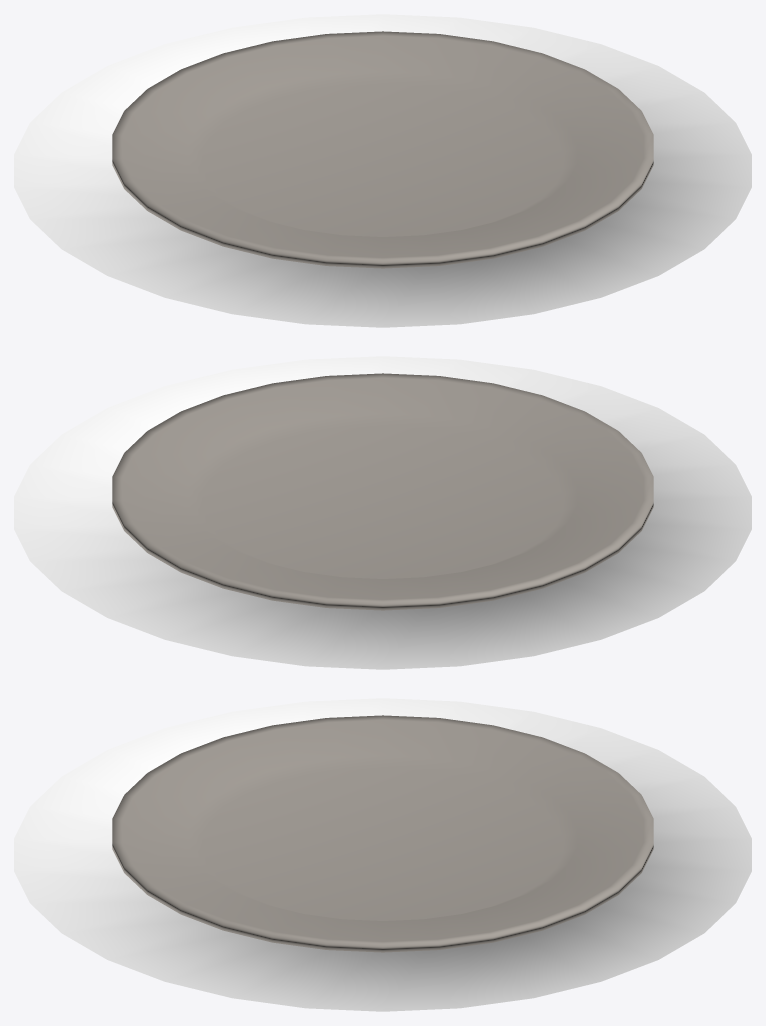
Rendered from pi_dish01_white.gltf.
3 views of the same model, one above another, from view 1: azimuth 30°, elevation 25°; view 2: azimuth 150°, elevation 25°; view 3: azimuth 270°, elevation 25° (orthographic).
Parts seen in each view (by area): view 1: um_pi_dish01_white_model_pi_dish01_white_modelShape:pi_dish0, um_pi_dish01_white_model_pi_dish01_white_modelShape:mat_text; view 2: um_pi_dish01_white_model_pi_dish01_white_modelShape:pi_dish0, um_pi_dish01_white_model_pi_dish01_white_modelShape:mat_text; view 3: um_pi_dish01_white_model_pi_dish01_white_modelShape:pi_dish0, um_pi_dish01_white_model_pi_dish01_white_modelShape:mat_text.
Boxes of the visible parts, x1,y1,x2,y2 form: um_pi_dish01_white_model_pi_dish01_white_modelShape:pi_dish0: (112, 31, 653, 268); um_pi_dish01_white_model_pi_dish01_white_modelShape:mat_text: (14, 14, 751, 327); um_pi_dish01_white_model_pi_dish01_white_modelShape:pi_dish0: (112, 373, 653, 610); um_pi_dish01_white_model_pi_dish01_white_modelShape:mat_text: (14, 356, 751, 669); um_pi_dish01_white_model_pi_dish01_white_modelShape:pi_dish0: (112, 715, 653, 952); um_pi_dish01_white_model_pi_dish01_white_modelShape:mat_text: (14, 698, 751, 1011).
Size of the model in its own units: 0.4092 by 0.017 by 0.407.
2 materials, 1 textured.
